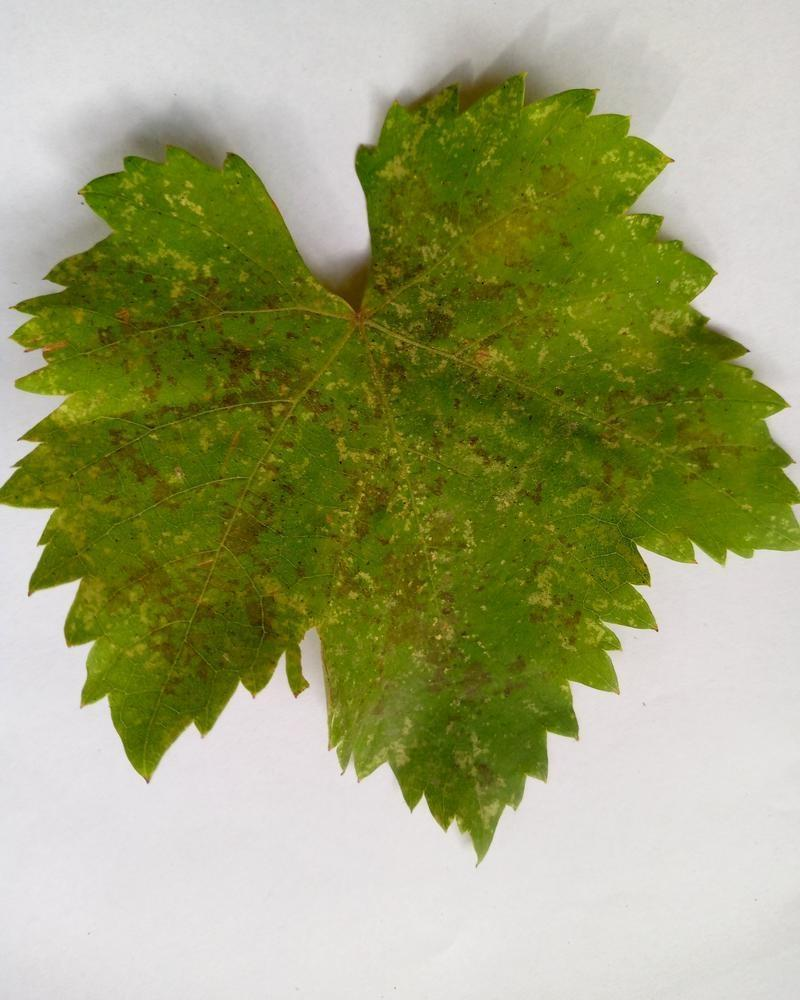Powdery-Mildew: (323, 453, 515, 775), (376, 98, 643, 279), (122, 485, 298, 694), (570, 344, 758, 534), (151, 237, 318, 444), (368, 296, 532, 441), (53, 375, 177, 510), (456, 421, 560, 532)
